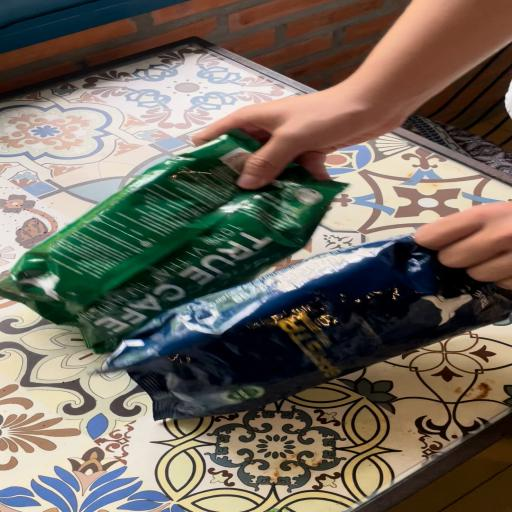cafe_hat: (104, 236, 512, 420)
cafe_xay: (0, 132, 344, 353)
